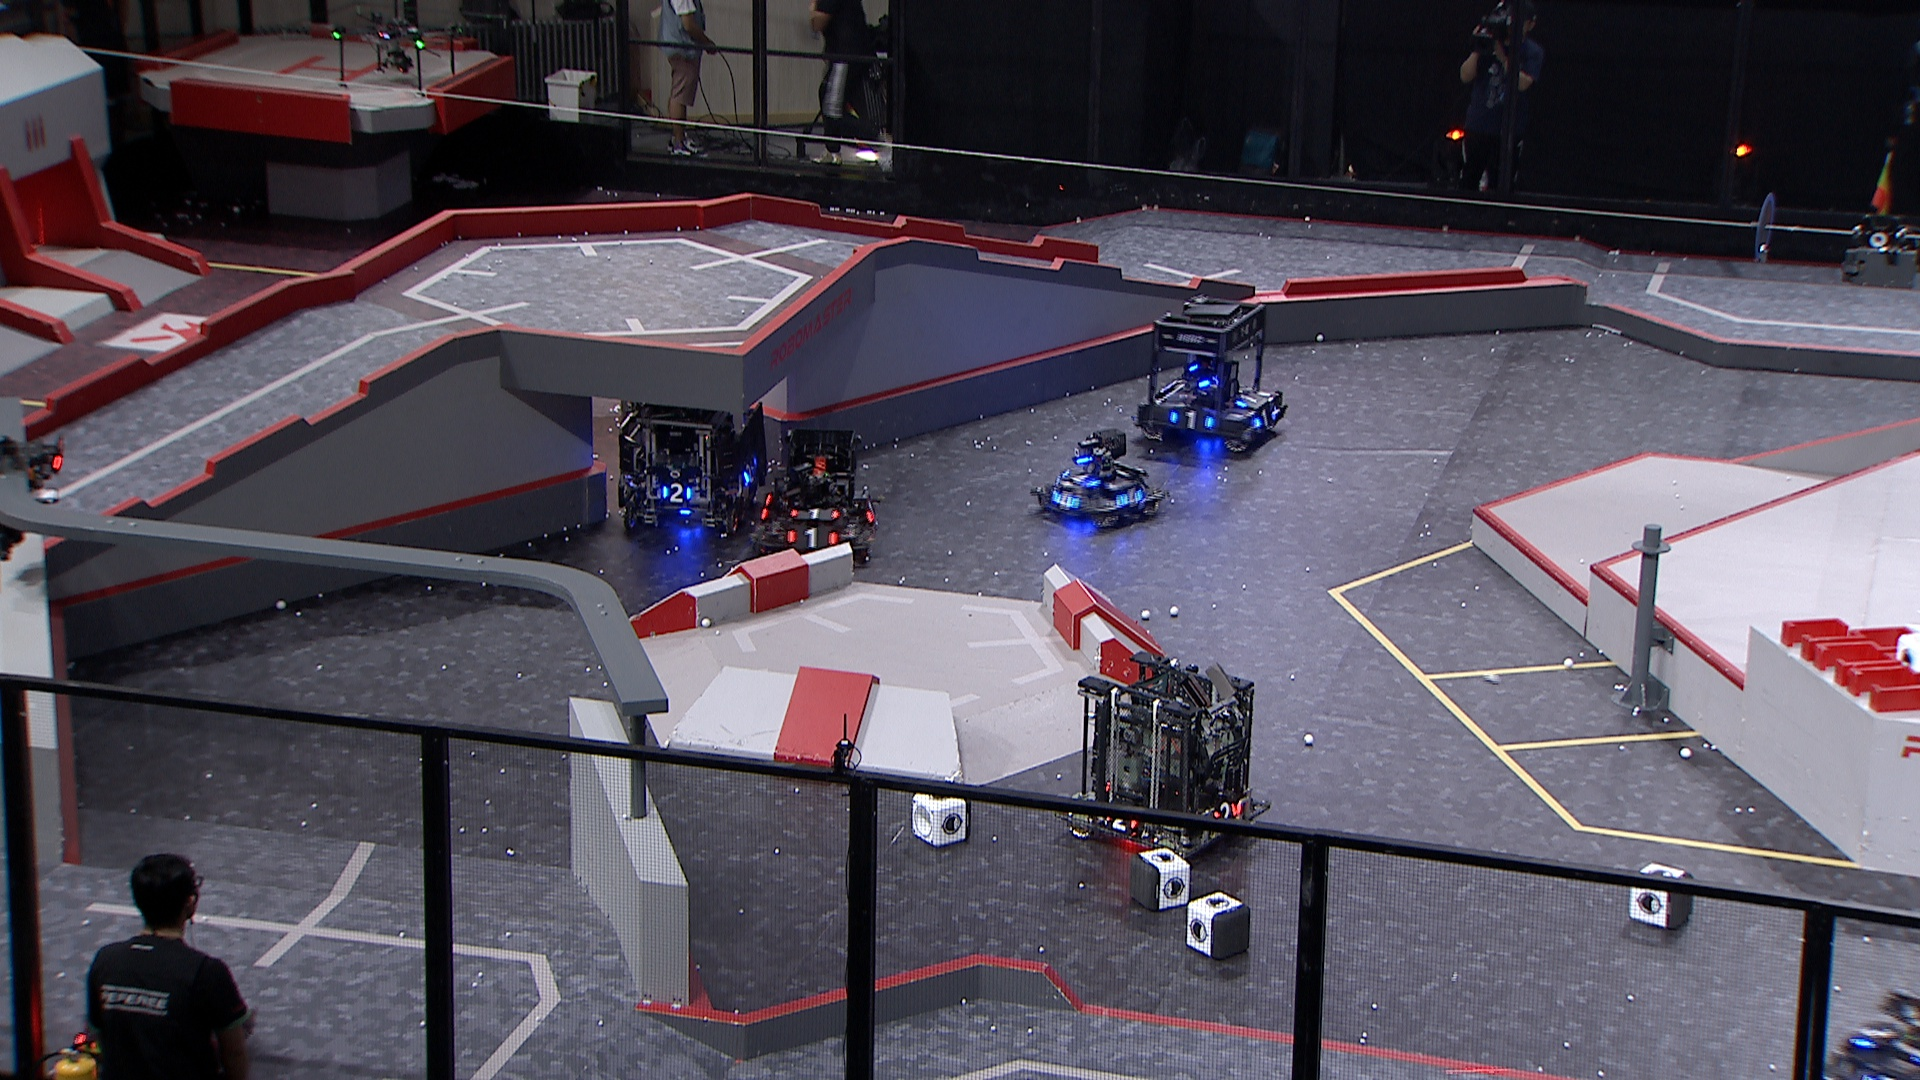armor: (1850, 1021, 1903, 1052), (785, 524, 840, 551), (1168, 410, 1216, 433), (1060, 469, 1102, 491), (1050, 487, 1083, 513), (1102, 812, 1141, 835), (789, 506, 841, 522), (661, 483, 694, 505), (1114, 489, 1145, 510), (1211, 802, 1240, 822), (1253, 409, 1276, 433), (1232, 392, 1259, 411), (740, 462, 760, 485), (865, 498, 880, 526)
car: (1054, 651, 1275, 864), (1131, 295, 1288, 452), (613, 392, 769, 541), (745, 423, 884, 570), (1029, 429, 1168, 531), (1822, 986, 1920, 1080)
